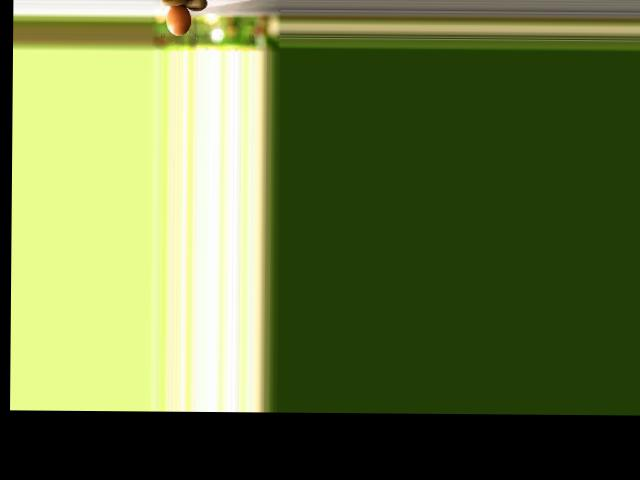egg: (166, 4, 192, 35)
